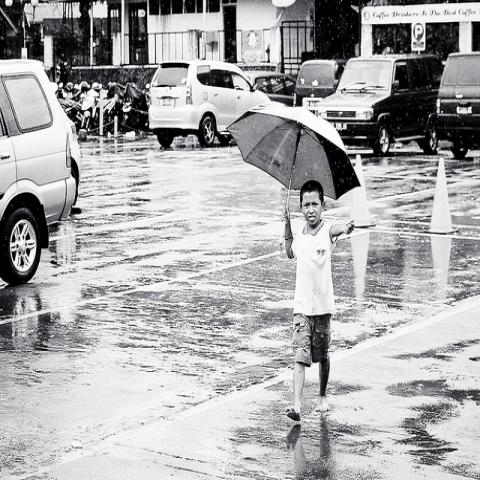car: (0, 60, 76, 289), (314, 56, 444, 156), (150, 57, 268, 149), (437, 52, 479, 158), (292, 58, 347, 107), (245, 70, 296, 108)
motorcycle: (77, 88, 125, 136), (118, 82, 150, 131), (66, 80, 90, 123), (107, 82, 127, 107)
truck: (316, 52, 444, 154), (435, 50, 479, 160)
